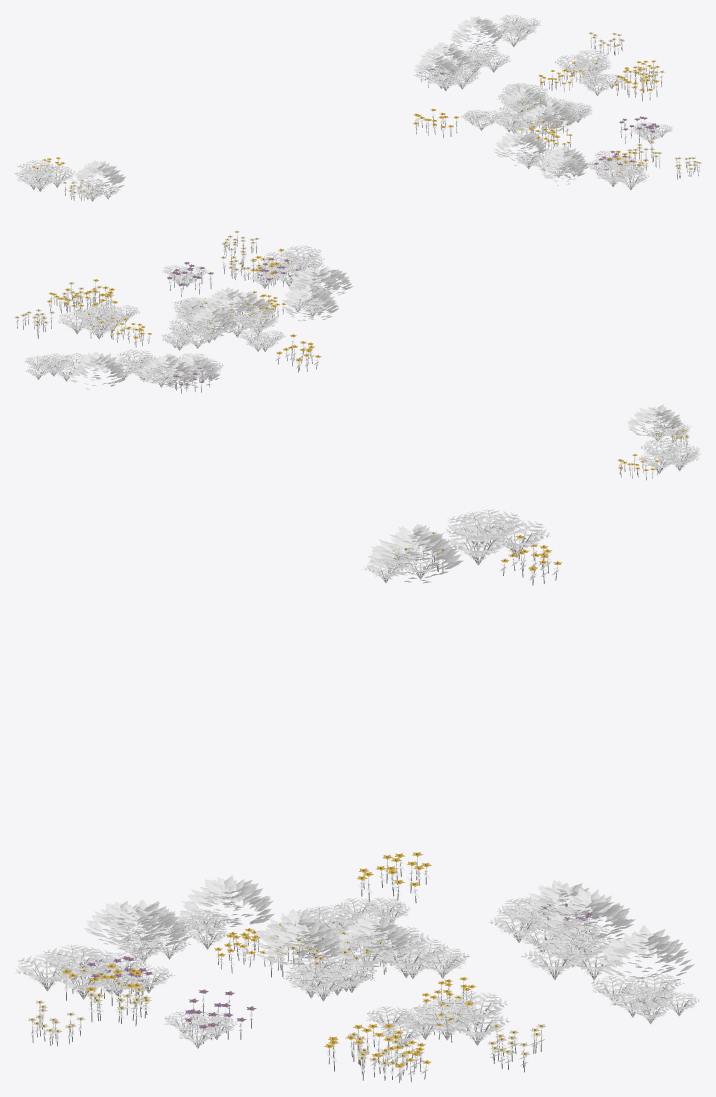
The model's file is SM_DF_Nature_3_1_Flora.fbx.
The picture shows the model from 3 angles, top to bottom: view 1: azimuth 30°, elevation 25°; view 2: azimuth 150°, elevation 25°; view 3: azimuth 270°, elevation 25°; orthographic projection. The views are drawn at different scales.
Parts seen in each view (by area): view 1: SM_DF_Nature_3_1_Flora; view 2: SM_DF_Nature_3_1_Flora; view 3: SM_DF_Nature_3_1_Flora.
Boxes of the visible parts, x1,y1,x2,y2 form: SM_DF_Nature_3_1_Flora: [14, 14, 701, 201]; SM_DF_Nature_3_1_Flora: [14, 230, 700, 480]; SM_DF_Nature_3_1_Flora: [14, 509, 701, 1082].
Size of the model in its own units: 2792 by 1534 by 235.
